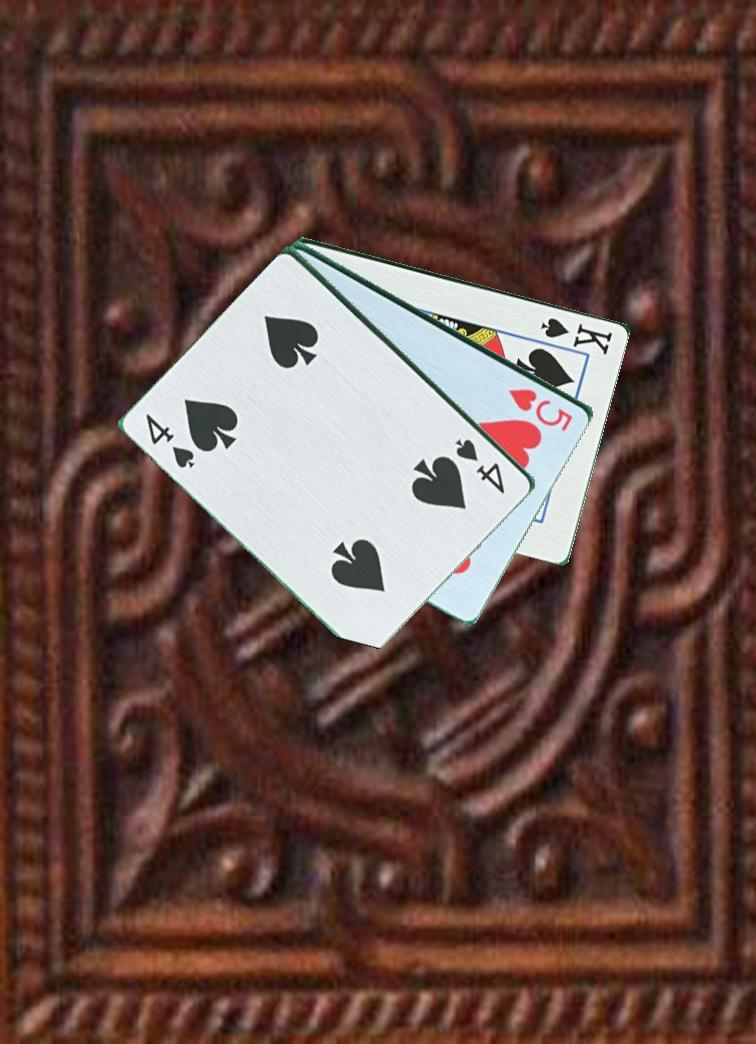4s: (142, 410, 208, 471), (452, 435, 509, 497)
5h: (505, 384, 577, 435)
ks: (537, 313, 616, 357)
